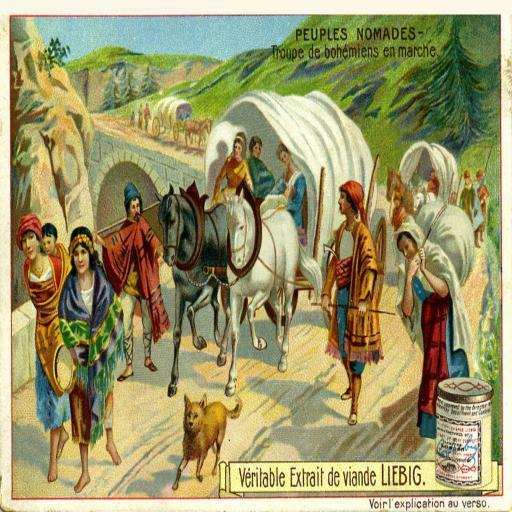horse: (218, 181, 324, 396), (148, 188, 234, 392), (381, 166, 411, 224), (181, 114, 212, 148), (412, 188, 438, 216)
